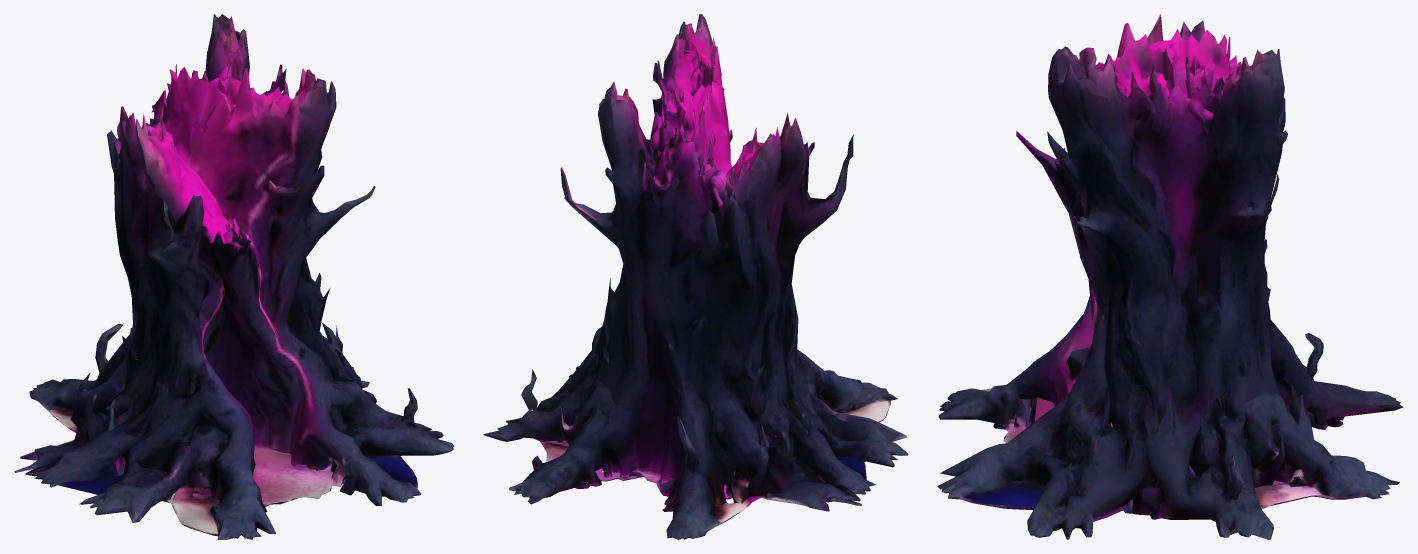
Rendered from yggdrasil-root-north.collider.glb.
3 views of the same model, side by side, from view 1: azimuth 30°, elevation 25°; view 2: azimuth 150°, elevation 25°; view 3: azimuth 270°, elevation 25° (orthographic). The views are drawn at different scales.
Visible parts, largest first — view 1: temp_mesh.ply; view 2: temp_mesh.ply; view 3: temp_mesh.ply.
Part boxes in pixels (left/top/right/bottom): temp_mesh.ply: left=14, top=14, right=454, bottom=539; temp_mesh.ply: left=483, top=14, right=908, bottom=539; temp_mesh.ply: left=937, top=14, right=1403, bottom=539.
Size of the model in its own units: 1.9 by 1.97 by 1.94.
1 material, 1 textured.
